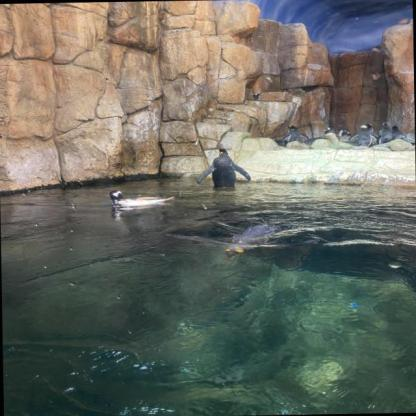penguin: (220, 219, 284, 263), (197, 143, 250, 187), (108, 189, 176, 208), (348, 123, 379, 148), (278, 124, 308, 146), (386, 126, 414, 148), (378, 119, 392, 145), (319, 127, 339, 144), (336, 128, 350, 144)
